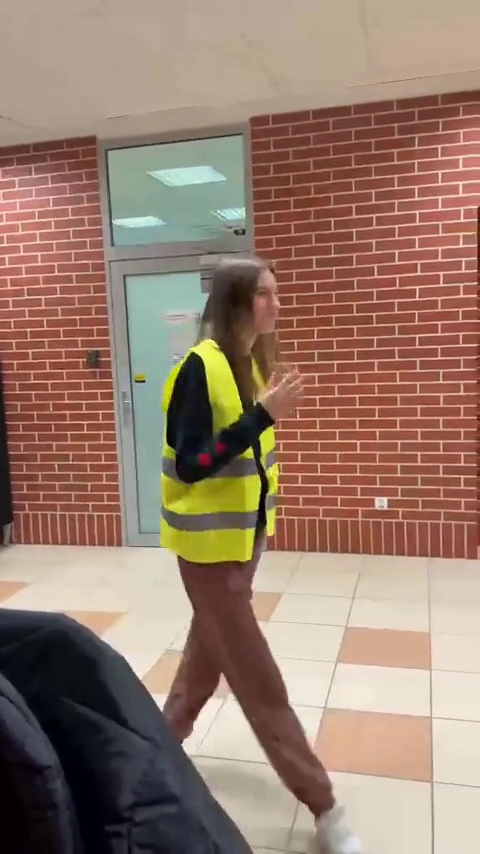vest: (160, 244, 339, 848)
